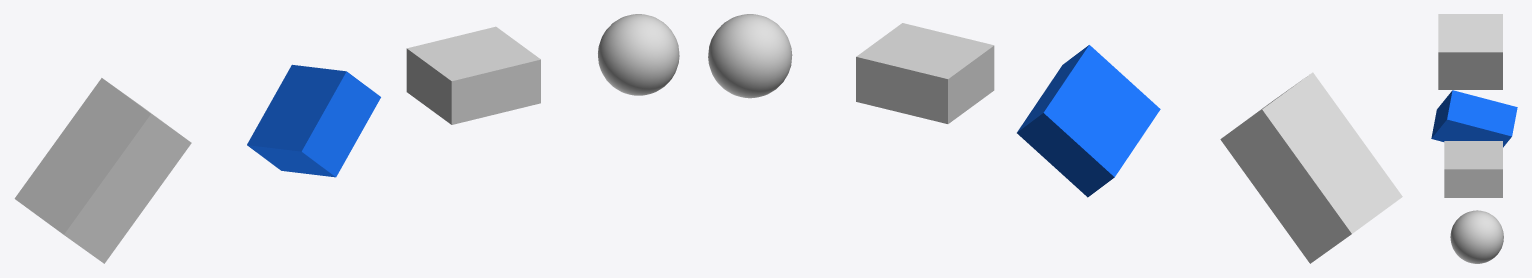
Rendered from 3d_ceshi_1.FBX.
3 views of the same model, side by side, from view 1: azimuth 30°, elevation 25°; view 2: azimuth 150°, elevation 25°; view 3: azimuth 270°, elevation 25° (orthographic). The views are drawn at different scales.
Visible parts, largest first — view 1: Box003, Box001, Box002, Sphere003; view 2: Box003, Box001, Box002, Sphere003; view 3: Box003, Box001, Box002, Sphere003.
Boxes of the visible parts, <box> form: Box003: <box>14,78,191,263</box>; Box001: <box>247,64,380,177</box>; Box002: <box>406,26,540,124</box>; Sphere003: <box>598,14,679,95</box>; Box003: <box>1220,72,1402,263</box>; Box001: <box>1017,45,1160,197</box>; Box002: <box>856,23,994,123</box>; Sphere003: <box>708,14,792,98</box>; Box003: <box>1438,14,1502,89</box>; Box001: <box>1431,90,1517,147</box>; Box002: <box>1444,141,1502,197</box>; Sphere003: <box>1450,210,1503,263</box>.
Bounding box in the file's own units: 355 × 73.59 × 63.44.
